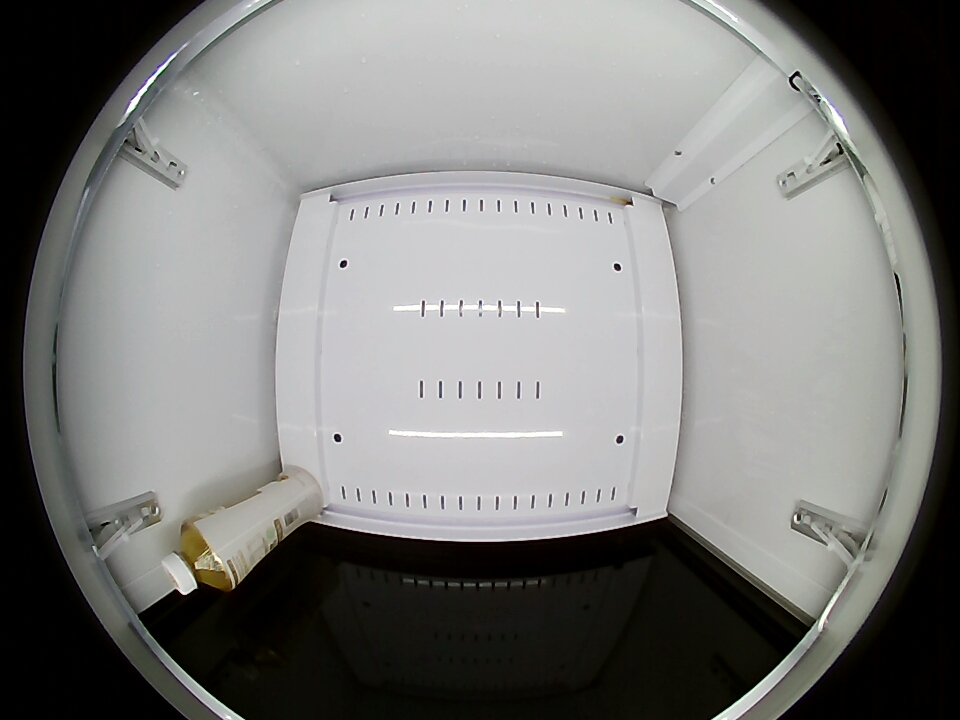rancha-2: (161, 517, 238, 596)
